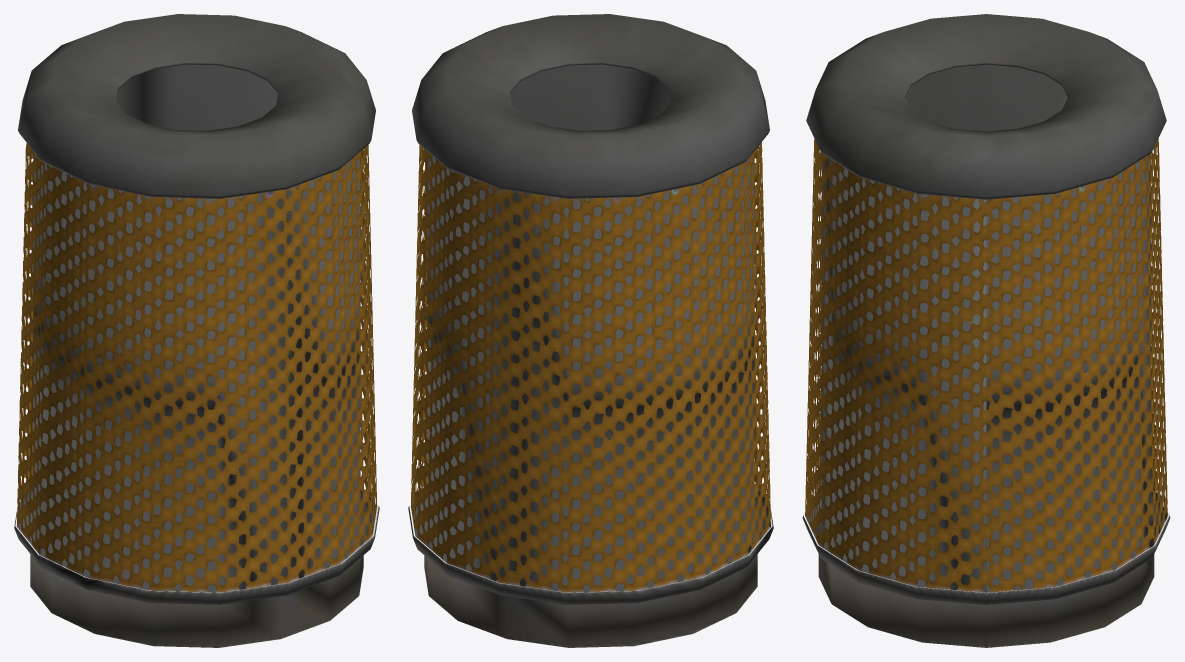
File: bin.gltf
3 views of the same model, side by side, from view 1: azimuth 30°, elevation 25°; view 2: azimuth 150°, elevation 25°; view 3: azimuth 270°, elevation 25° (orthographic).
Parts seen in each view (by area): view 1: bin; view 2: bin; view 3: bin.
Boxes of the visible parts, bbox=[...] form: bin: bbox=[14, 14, 379, 647]; bin: bbox=[408, 14, 773, 647]; bin: bbox=[802, 14, 1170, 647].
Size of the model in its own units: 0.6649 by 1 by 0.6649.
Materials: 1 (1 with a texture image).
